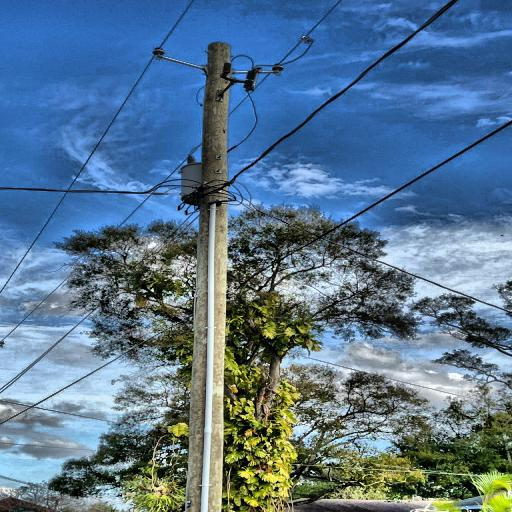pole: (168, 41, 244, 512)
transformer: (179, 160, 212, 210)
